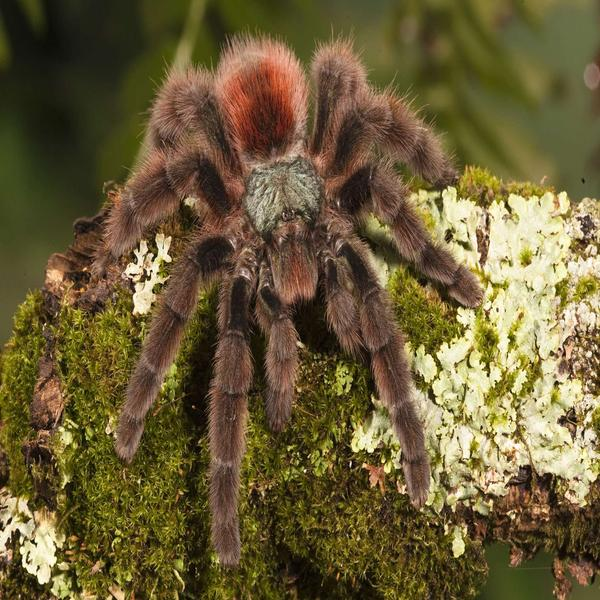Tarantula Spider: (102, 50, 483, 531)
